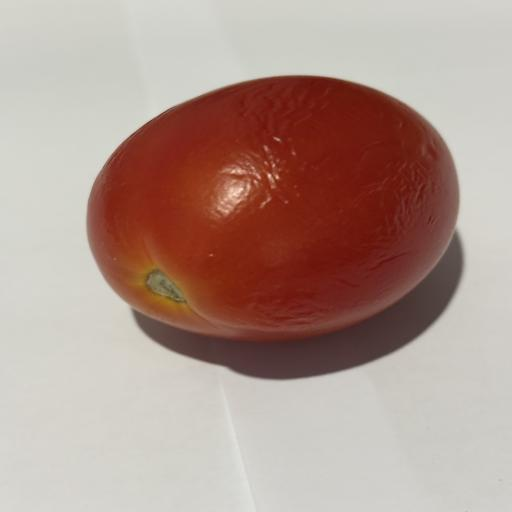spoiled: (87, 76, 458, 341)
